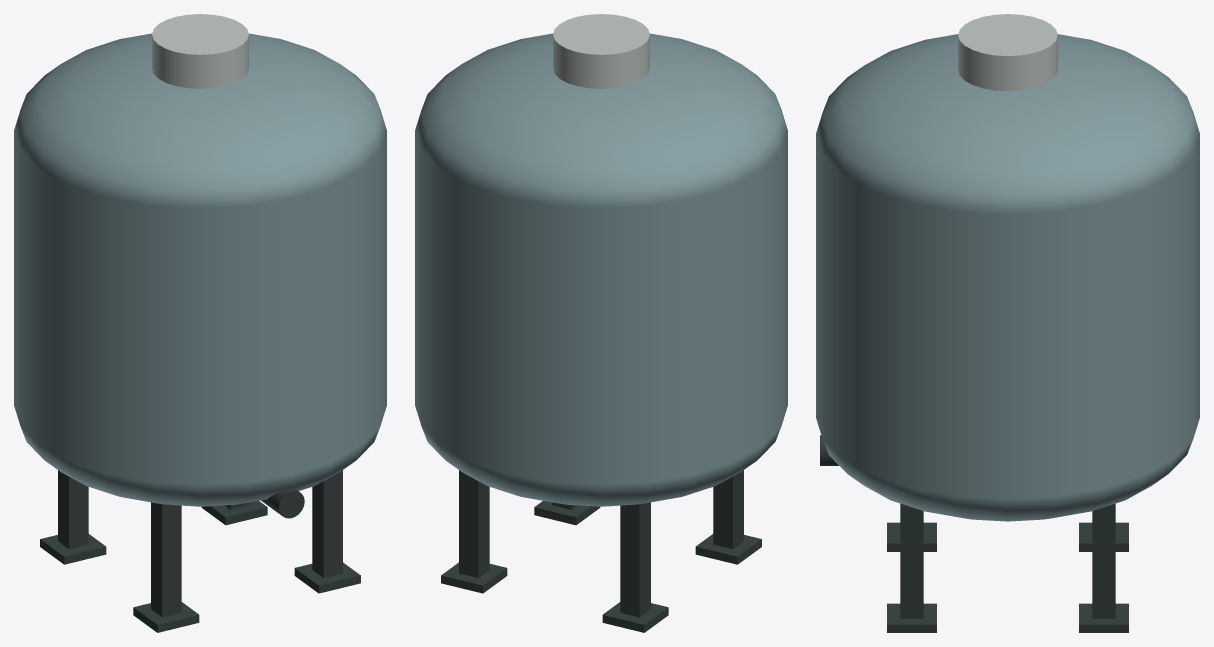
File: storage-tank.glb
3 views of the same model, side by side, from view 1: azimuth 30°, elevation 25°; view 2: azimuth 150°, elevation 25°; view 3: azimuth 270°, elevation 25° (orthographic). The views are drawn at different scales.
Visible parts, largest first — view 1: CylinderBody, UpperDome, LowerDome, TopManhole, SupportLeg-1_1, SupportLeg1_1, SupportLeg-1_-1, Footplate-1_-1, Footplate-1_1, Footplate1_1, Footplate1_-1, DrainPort; view 2: CylinderBody, UpperDome, LowerDome, TopManhole, SupportLeg-1_-1, SupportLeg1_-1, SupportLeg-1_1, Footplate-1_-1, Footplate-1_1, Footplate1_-1, Footplate1_1; view 3: CylinderBody, UpperDome, LowerDome, TopManhole, SupportLeg1_-1, SupportLeg1_1, Footplate1_-1, Footplate1_1, Footplate-1_-1, Footplate-1_1.
Part boxes in pixels (x1,y1,x2,y2): CylinderBody: (14,130,386,484); UpperDome: (14,33,386,208); LowerDome: (21,427,379,506); TopManhole: (152,14,248,88); SupportLeg-1_1: (151,502,181,617); SupportLeg1_1: (312,470,342,577); SupportLeg-1_-1: (58,470,88,549); Footplate-1_-1: (40,534,106,564); Footplate-1_1: (133,602,199,632); Footplate1_1: (294,562,360,593); Footplate1_-1: (201,501,267,525); DrainPort: (261,488,304,518); CylinderBody: (415,130,787,484); UpperDome: (415,33,787,208); LowerDome: (422,427,780,506); TopManhole: (553,14,649,88); SupportLeg-1_-1: (620,502,650,617); SupportLeg1_-1: (459,470,489,577); SupportLeg-1_1: (713,470,743,549); Footplate-1_-1: (602,602,668,632); Footplate-1_1: (695,534,761,564); Footplate1_-1: (441,562,507,593); Footplate1_1: (534,501,600,525); CylinderBody: (816,134,1199,498); UpperDome: (816,34,1199,214); LowerDome: (822,439,1193,521); TopManhole: (958,14,1057,91); SupportLeg1_-1: (1092,503,1115,618); SupportLeg1_1: (900,503,923,618); Footplate1_-1: (1079,603,1128,632); Footplate1_1: (887,603,936,632); Footplate-1_-1: (1079,522,1128,551); Footplate-1_1: (887,522,936,551).
Bounding box in the file's own units: 1.4 × 2.2 × 1.4.
